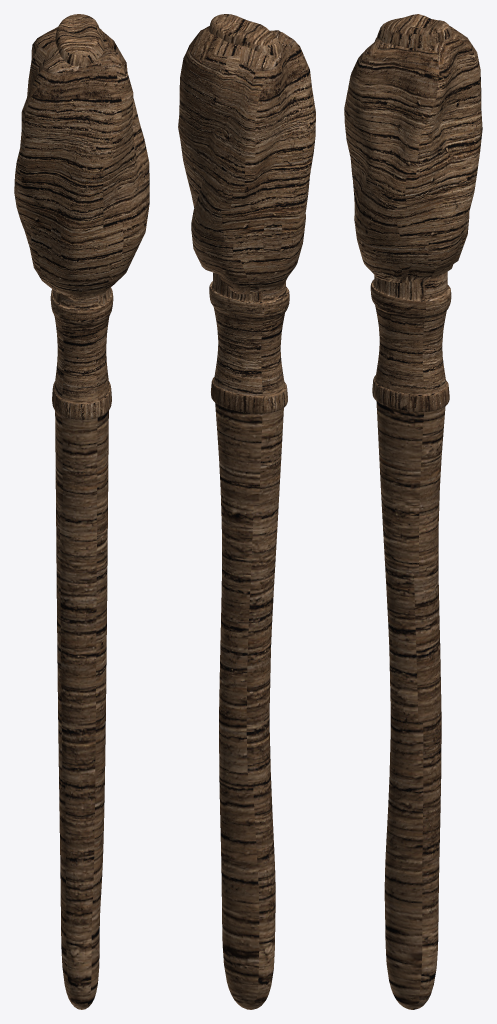
Rendered from Fakrl.fbx.
3 views of the same model, side by side, from view 1: azimuth 90°, elevation 25°; view 2: azimuth 150°, elevation 25°; view 3: azimuth 330°, elevation 25° (orthographic).
Parts seen in each view (by area): view 1: Circle; view 2: Circle; view 3: Circle.
Boxes of the visible parts, x1,y1,x2,y2 form: Circle: [14, 14, 149, 1009]; Circle: [178, 14, 315, 1009]; Circle: [344, 14, 482, 1009].
Size of the model in its own units: 152 by 1214 by 152.
